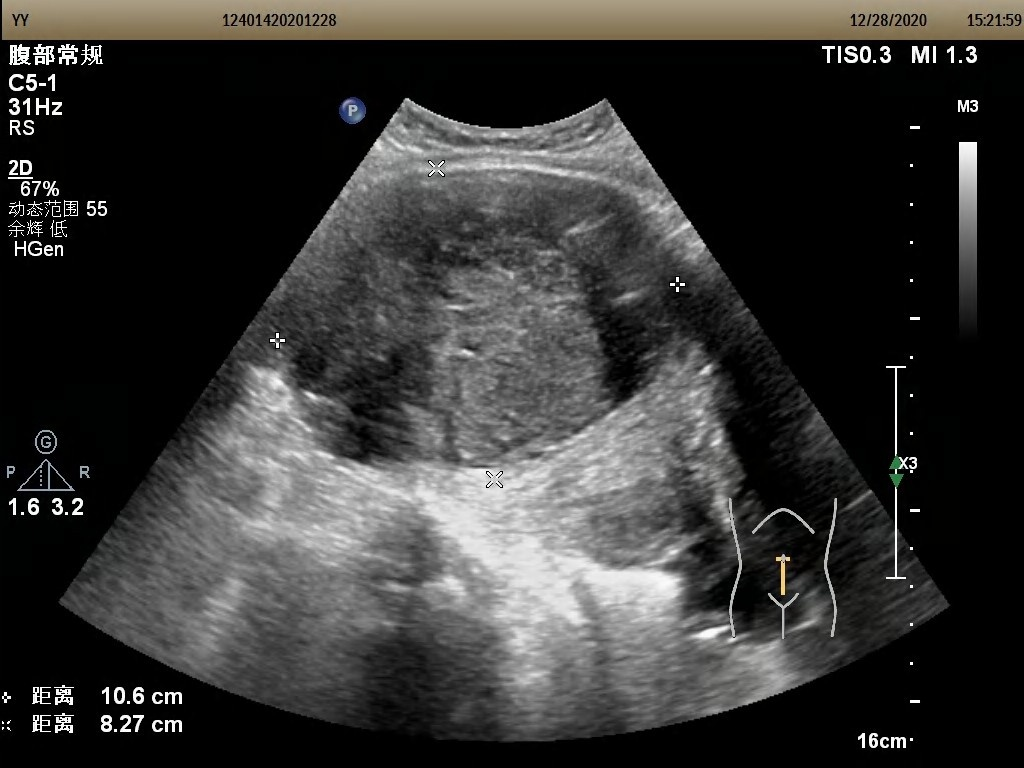肌瘤: (278, 170, 678, 480)
